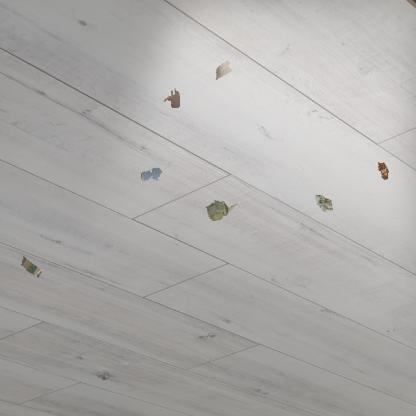dirty: (203, 198, 238, 223), (19, 255, 45, 278), (312, 192, 334, 216), (213, 58, 235, 82), (376, 160, 390, 182)
liquid: (140, 166, 164, 182), (164, 88, 180, 108)
